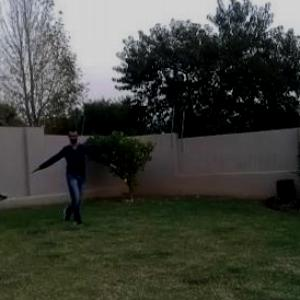land: (42, 122, 126, 221)
